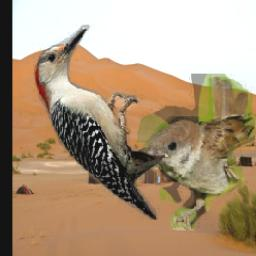Sparrow: (137, 75, 255, 231)
Woodpecker: (33, 26, 165, 221)
